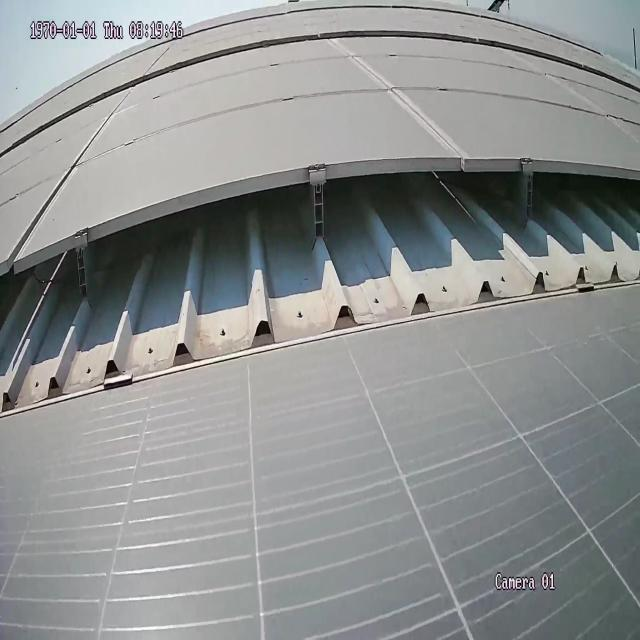interior panel: (11, 90, 128, 239), (333, 39, 471, 150)
outher panel: (0, 157, 640, 417)
